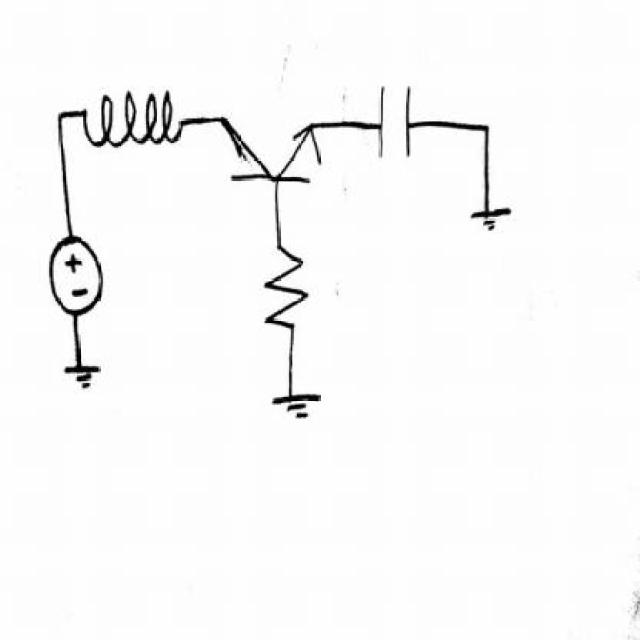capacitor: (366, 73, 425, 174)
ground: (464, 190, 518, 246), (269, 383, 339, 426), (58, 355, 112, 395)
inductor: (73, 84, 185, 155)
resistor: (254, 229, 322, 344)
transistor: (210, 102, 338, 193)
voltage_source: (45, 225, 109, 329)
